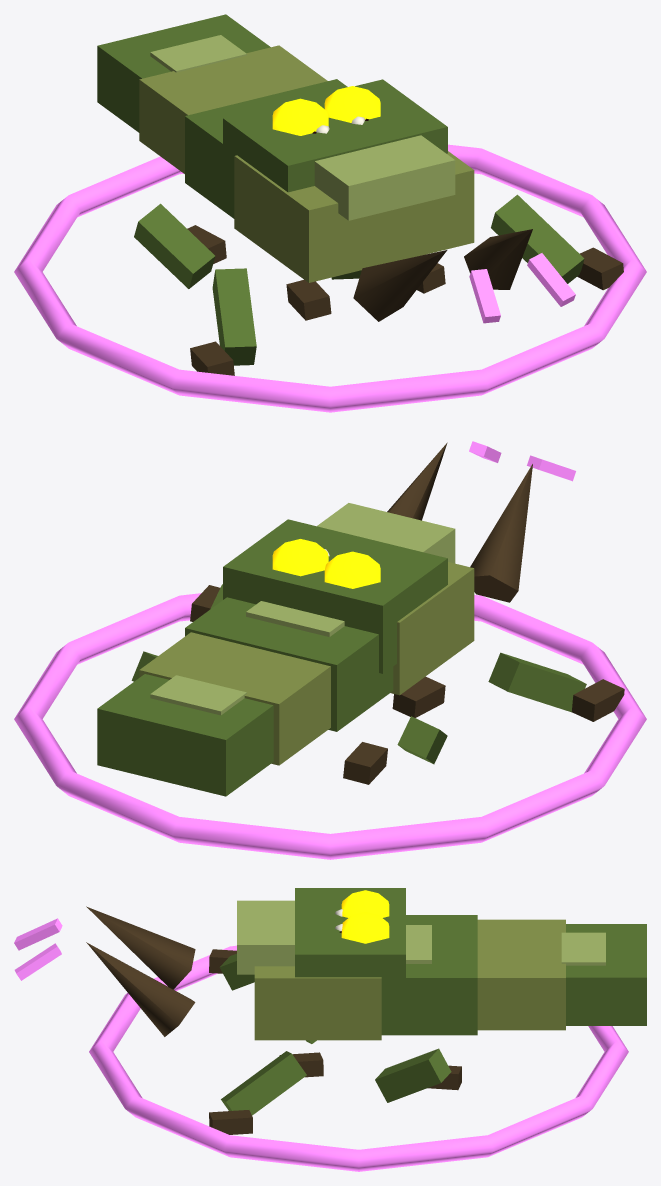
The model's file is DoodlebugSmallA.glb.
The picture shows the model from 3 angles, top to bottom: view 1: azimuth 30°, elevation 25°; view 2: azimuth 150°, elevation 25°; view 3: azimuth 270°, elevation 25°; orthographic projection. The views are drawn at different scales.
Visible parts, largest first — view 1: DoodlebugSmallBody; view 2: DoodlebugSmallBody; view 3: DoodlebugSmallBody.
Part boxes in pixels (x1=…): DoodlebugSmallBody: x1=14, y1=14, x2=646, y2=412; DoodlebugSmallBody: x1=14, y1=441, x2=646, y2=859; DoodlebugSmallBody: x1=14, y1=888, x2=646, y2=1171.
Size of the model in its own units: 0.796 by 0.2589 by 0.9328.
